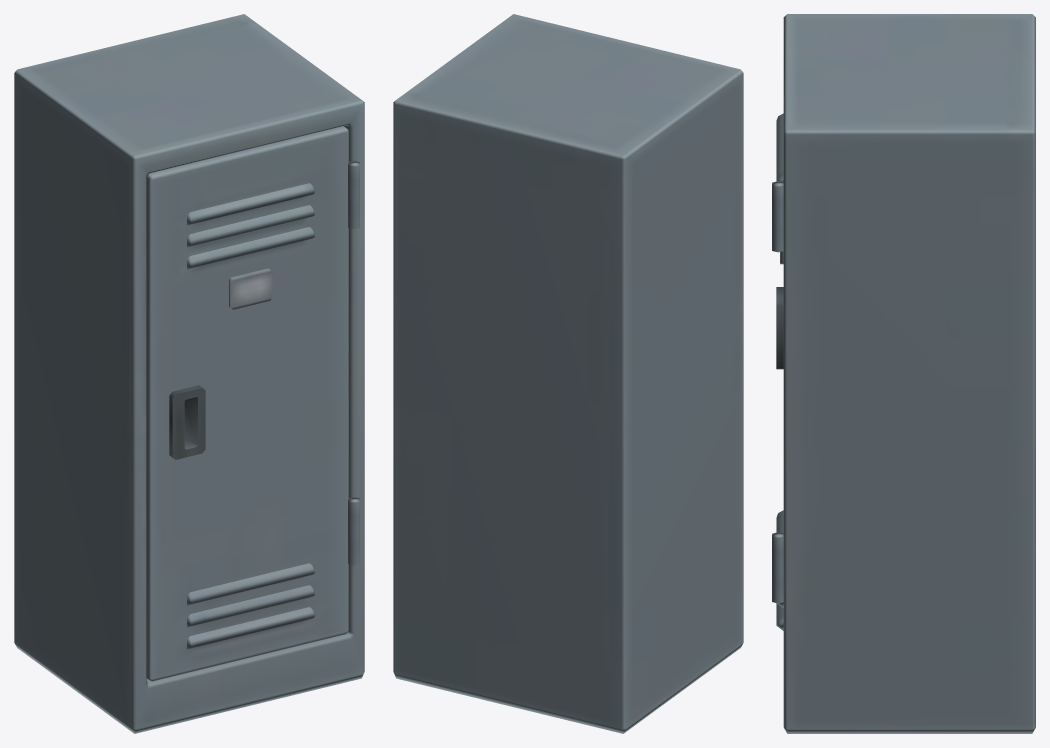
The picture shows the model from 3 angles, left to right: view 1: azimuth 30°, elevation 25°; view 2: azimuth 150°, elevation 25°; view 3: azimuth 270°, elevation 25°; orthographic projection. The views are drawn at different scales.
Bounding box in the file's own units: 7.8 × 18.5 × 7.32.
Materials: 2 (2 with a texture image).
